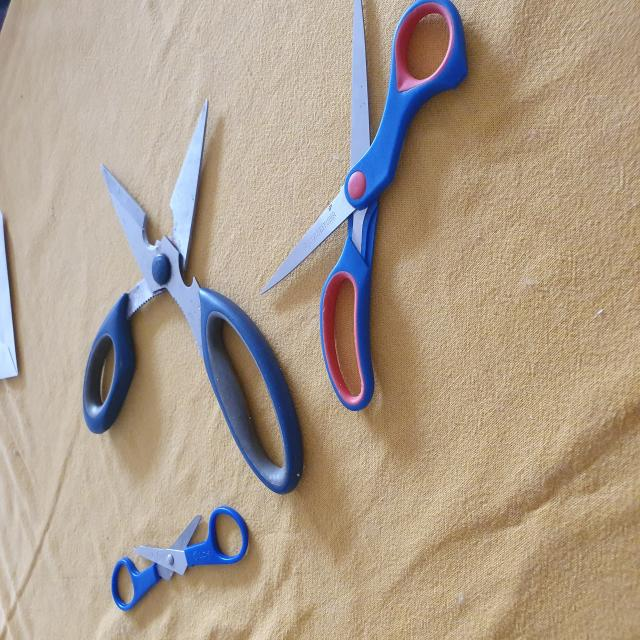scissors: (80, 100, 312, 494), (259, 0, 468, 413), (110, 505, 252, 610)
